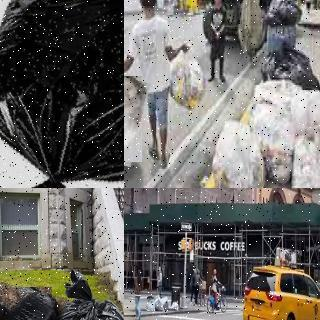Garbage: (0, 0, 124, 188), (248, 79, 320, 182), (43, 266, 124, 320), (209, 116, 267, 188), (263, 47, 320, 96), (169, 45, 208, 108), (124, 73, 146, 164), (291, 130, 320, 188), (265, 0, 300, 25), (154, 295, 164, 312), (146, 297, 156, 311), (162, 296, 170, 310), (170, 301, 180, 311)
